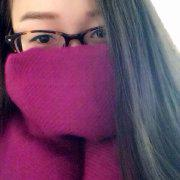OK: (11, 4, 129, 122)
